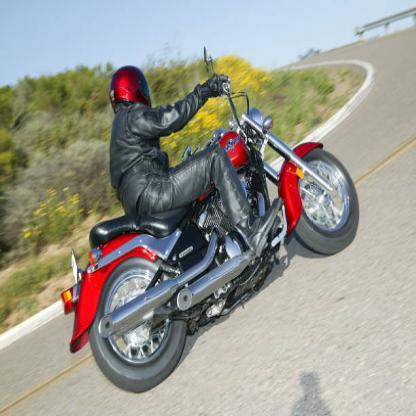Motorcycle: (63, 121, 359, 391)
